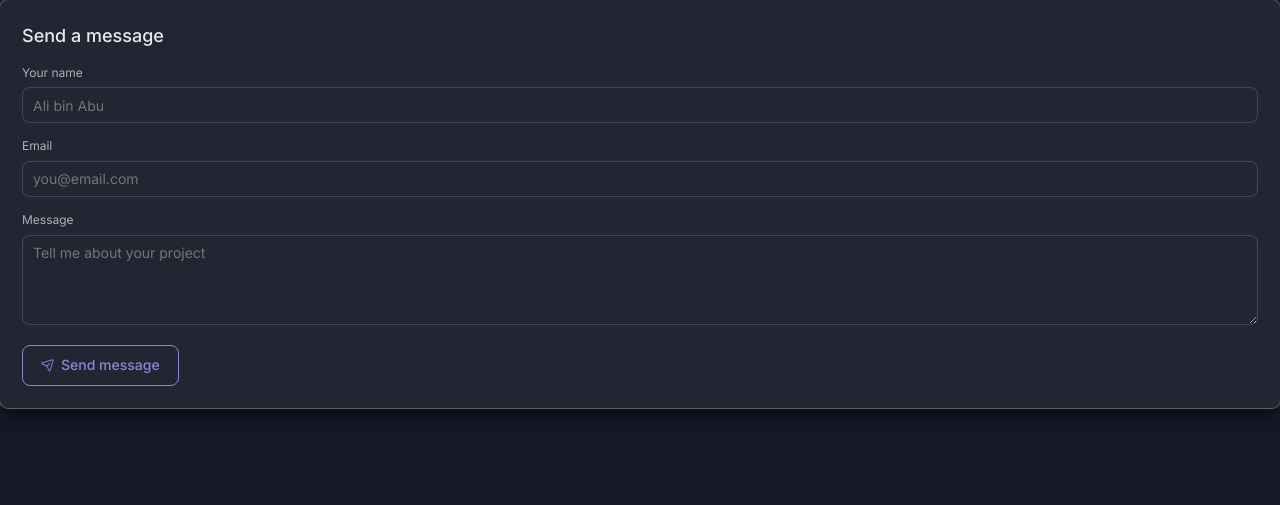
Scenario: ContactForm › shows errors, focuses the first invalid field and sends nothing
Click the button "Send message" at x=100, y=365, box [22,345,179,386]
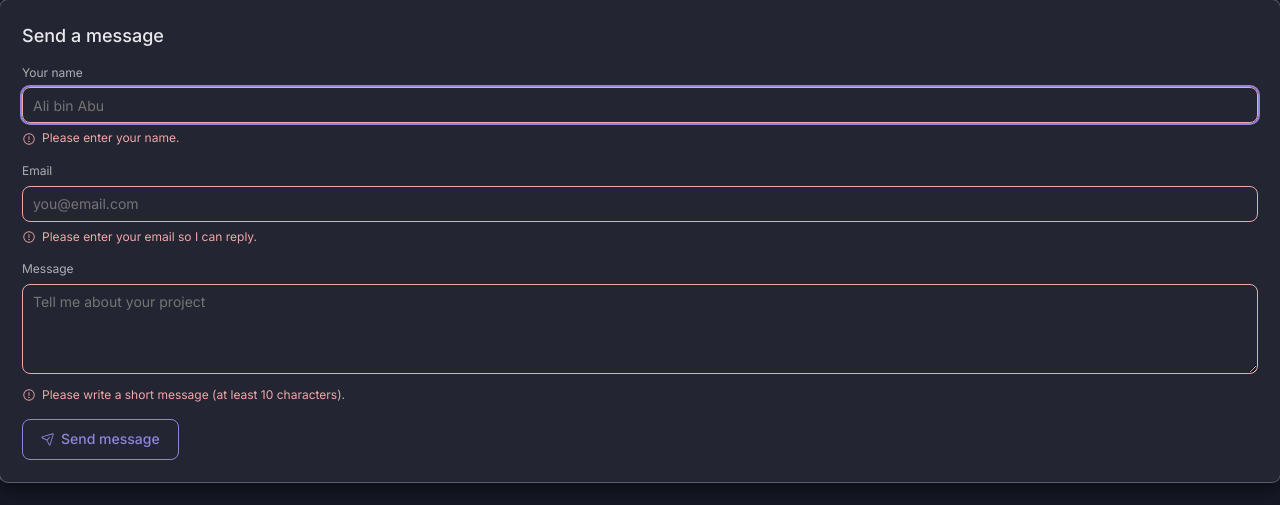
Now the text "Please enter your name." is shown, box [22,130,179,146]
Now the text "Please enter your email so I can reply." is shown, box [22,229,257,244]
Now the text "Please write a short message (at least 10 characters)." is shown, box [22,387,345,402]
